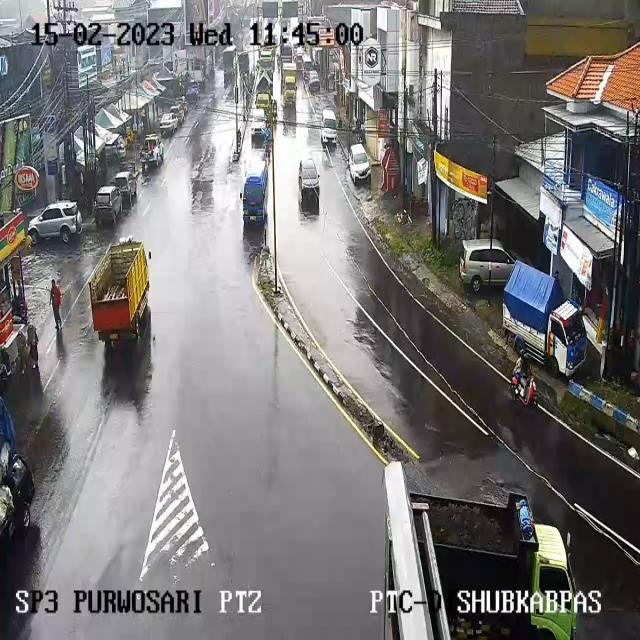Bus: (242, 162, 269, 225)
Car: (458, 238, 516, 294), (0, 449, 34, 536), (28, 201, 82, 243), (93, 187, 123, 226), (298, 158, 320, 208), (346, 144, 370, 183), (111, 171, 137, 206), (140, 134, 165, 168), (104, 134, 126, 162), (320, 109, 338, 143), (153, 75, 177, 100), (250, 108, 268, 141), (159, 113, 179, 135), (269, 19, 282, 50), (306, 70, 321, 94), (238, 48, 250, 75), (169, 106, 185, 124), (186, 84, 199, 106), (280, 42, 293, 62), (330, 61, 340, 86), (177, 97, 189, 117), (146, 56, 162, 70), (312, 48, 322, 69), (301, 51, 312, 70), (295, 46, 305, 62), (296, 54, 304, 71)
Motorbike: (505, 345, 537, 406), (25, 324, 40, 368), (262, 126, 272, 153)
Truck: (391, 476, 585, 633), (92, 238, 158, 332), (283, 62, 300, 105), (222, 46, 236, 82), (255, 91, 273, 118), (258, 47, 276, 70)
